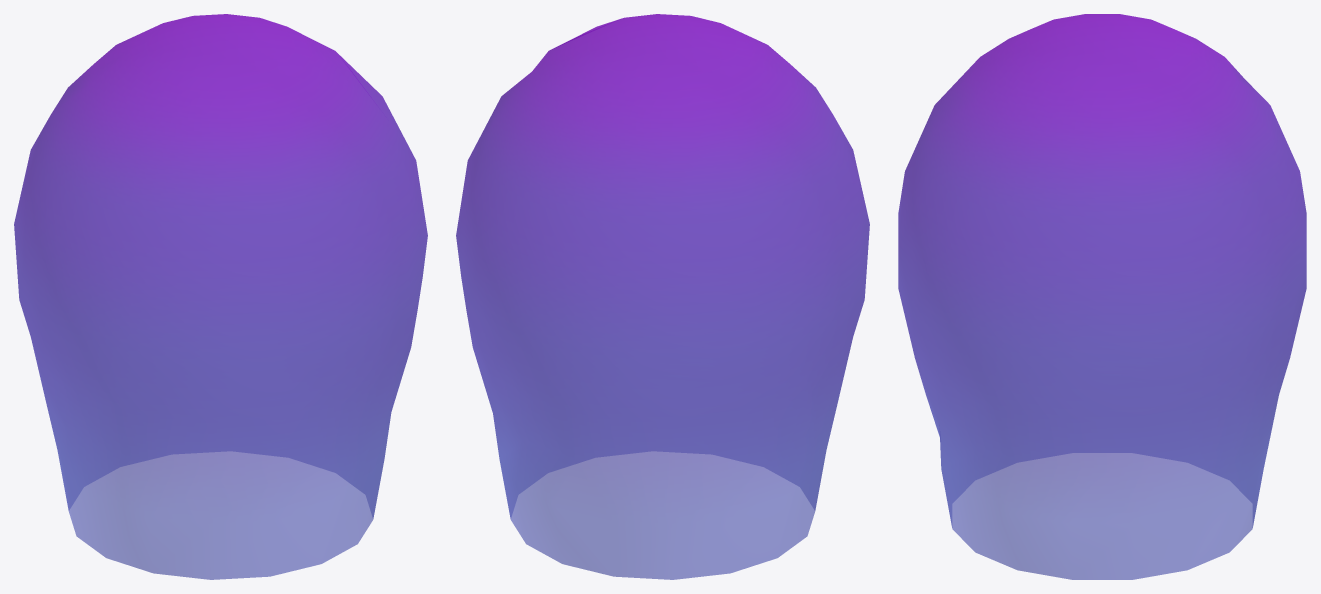
Rendered from Bush.glb.
The picture shows the model from 3 angles, left to right: view 1: azimuth 30°, elevation 25°; view 2: azimuth 150°, elevation 25°; view 3: azimuth 270°, elevation 25°; orthographic projection.
Visible parts, largest first — view 1: Bush.016; view 2: Bush.016; view 3: Bush.016.
Boxes of the visible parts, x1,y1,x2,y2 form: Bush.016: (14,14,427,579); Bush.016: (456,14,869,579); Bush.016: (898,14,1306,579).
Size of the model in its own units: 5.06 by 6.6 by 5.06.
Materials: 1 (1 with a texture image).
